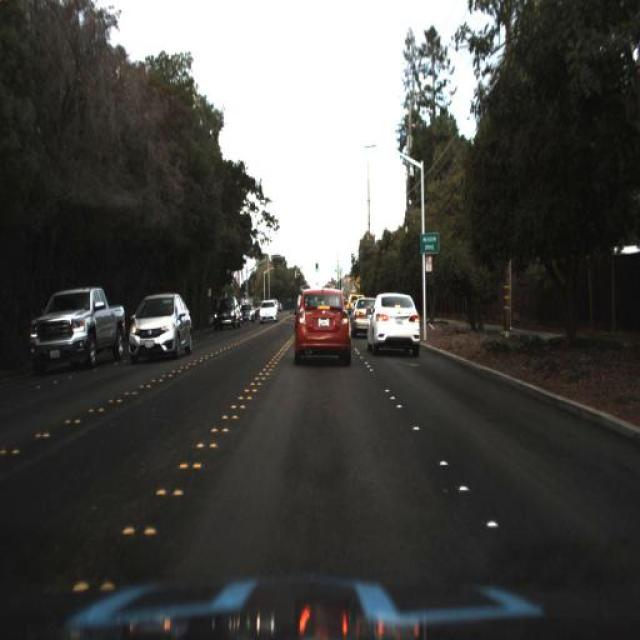car: (27, 284, 124, 370), (290, 283, 356, 368), (125, 289, 194, 370), (128, 292, 193, 363), (365, 290, 424, 354), (207, 294, 245, 336), (350, 289, 380, 339), (256, 296, 278, 325), (239, 298, 256, 328)
